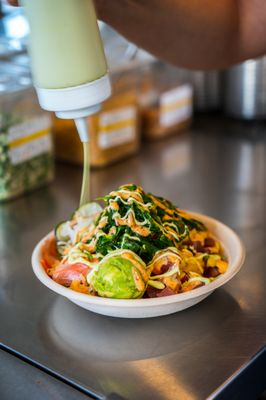sushi: (29, 183, 246, 320)
